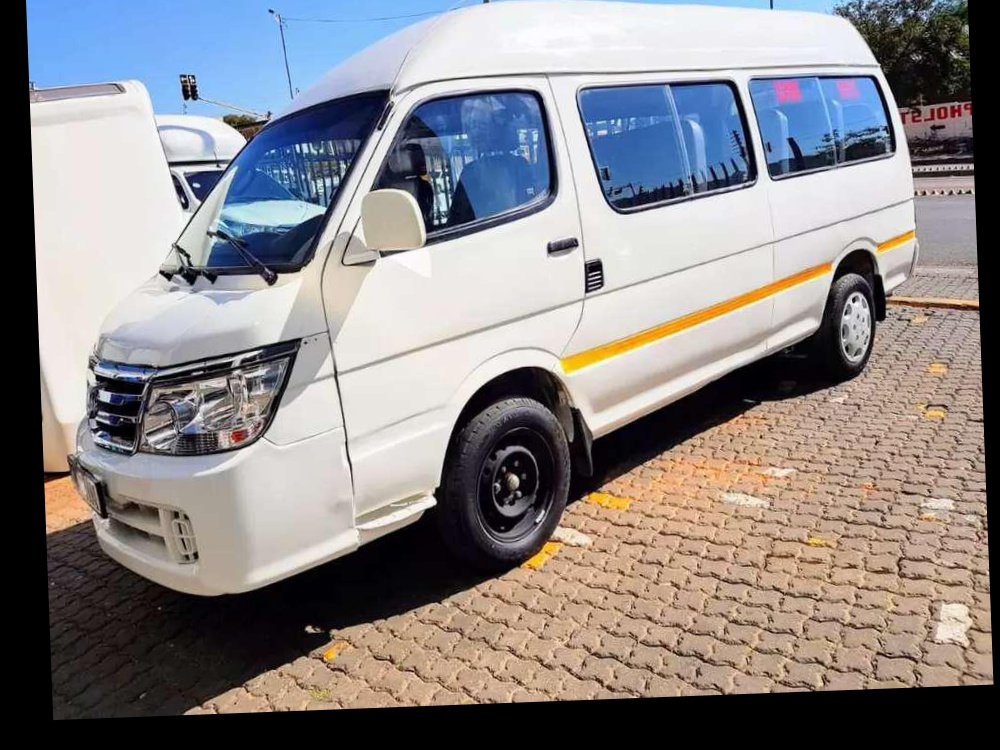van: (45, 0, 933, 630)
